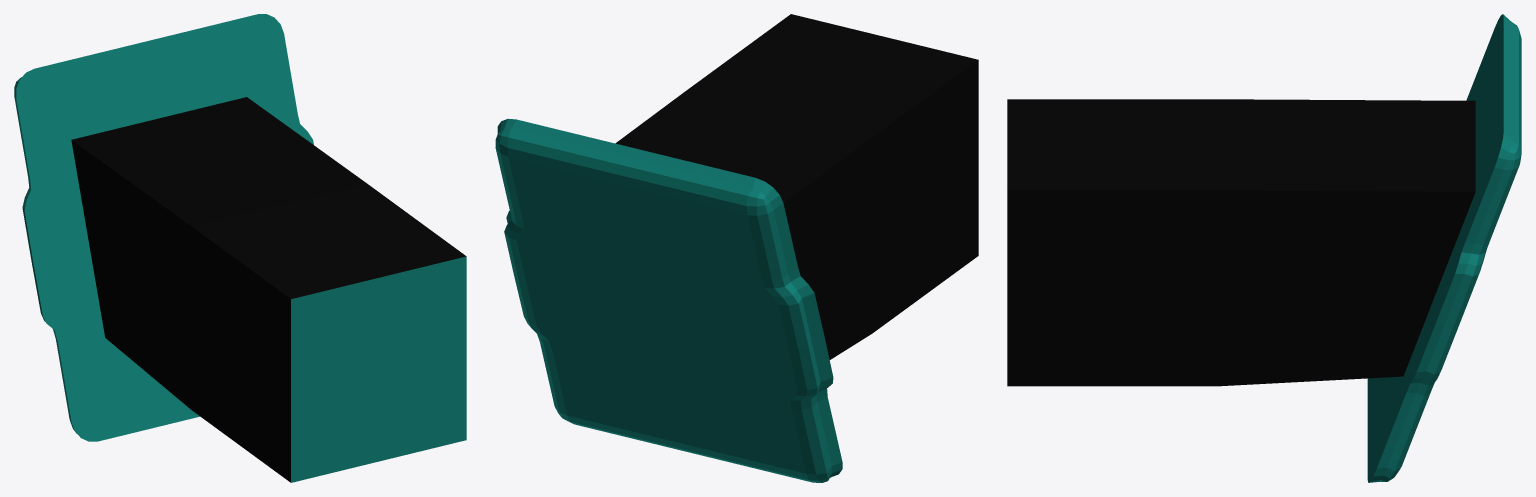
Rendered from CPU-Base.fbx.
The picture shows the model from 3 angles, left to right: view 1: azimuth 30°, elevation 25°; view 2: azimuth 150°, elevation 25°; view 3: azimuth 270°, elevation 25°; orthographic projection. The views are drawn at different scales.
Parts seen in each view (by area): view 1: Cpu1; view 2: Cpu1; view 3: Cpu1.
Boxes of the visible parts, box(x1,y1,x2,y2) form: Cpu1: box(14, 14, 466, 482); Cpu1: box(495, 14, 978, 482); Cpu1: box(1007, 14, 1521, 482).
Size of the model in its own units: 329 by 355 by 476.
